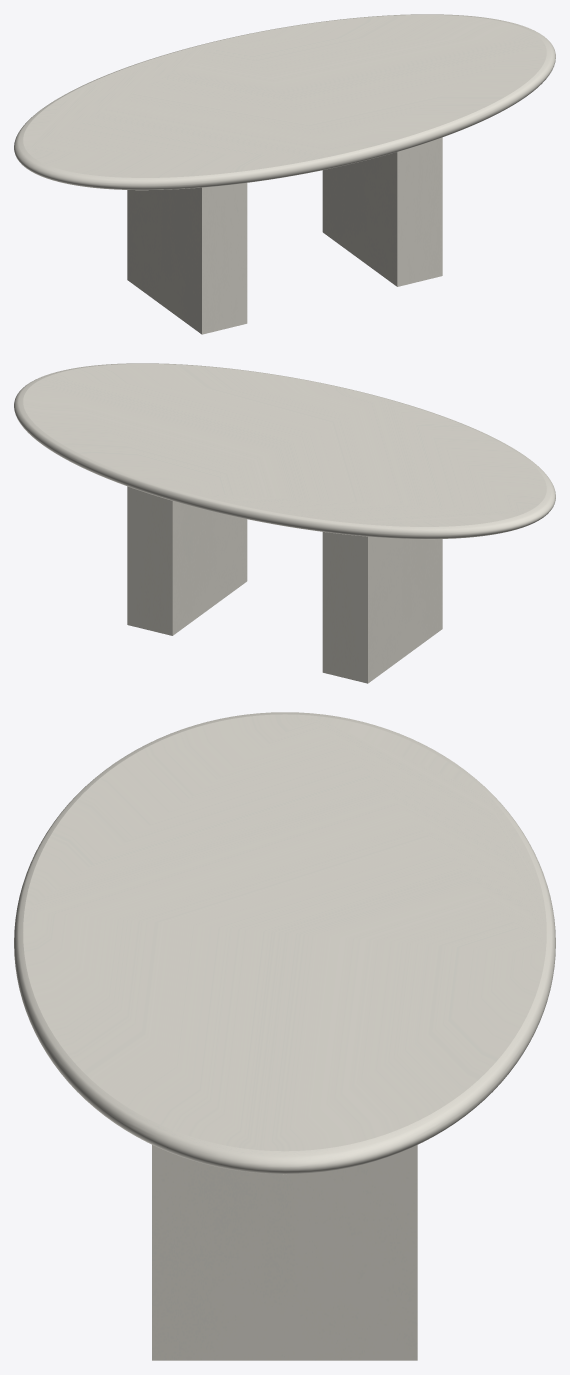
The model's file is pale_ellips_round_ridge.glb.
3 views of the same model, one above another, from view 1: azimuth 30°, elevation 25°; view 2: azimuth 150°, elevation 25°; view 3: azimuth 270°, elevation 25° (orthographic). The views are drawn at different scales.
Visible parts, largest first — view 1: round_ellips, ridge; view 2: round_ellips, ridge; view 3: round_ellips, ridge.
Part boxes in pixels (x1,y1,x2,y2): round_ellips: (14, 14, 555, 190); ridge: (127, 137, 442, 334); round_ellips: (14, 363, 555, 539); ridge: (127, 486, 442, 683); round_ellips: (14, 712, 555, 1174); ridge: (152, 1145, 417, 1360).
Size of the model in its own units: 7.5 by 2.5 by 3.8.
Materials: 1 (1 with a texture image).
